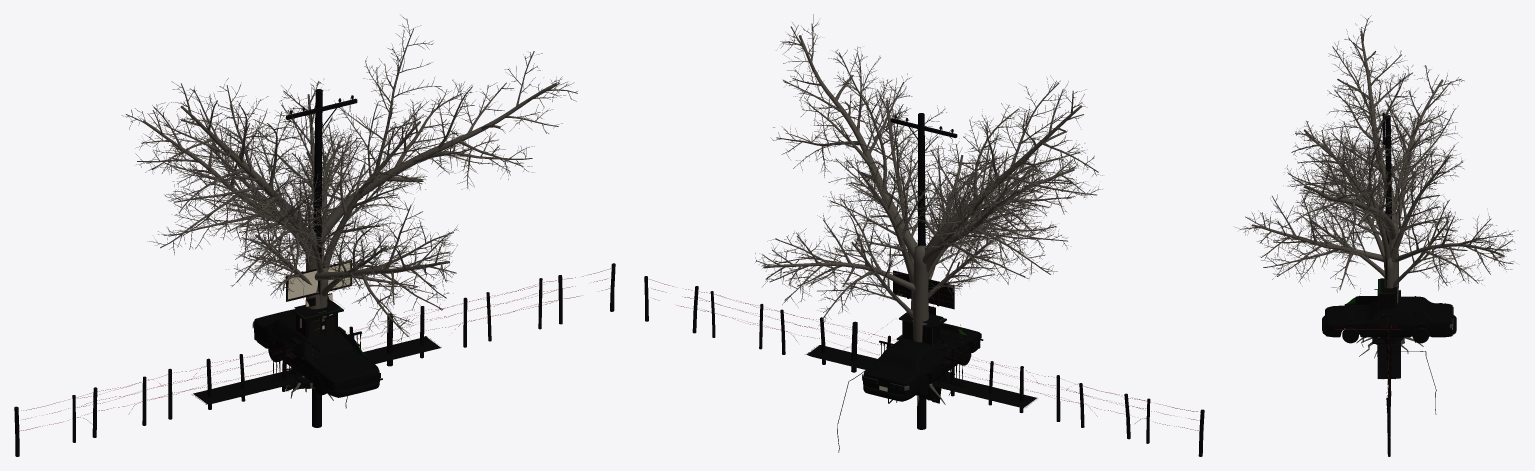
Rendered from props_m1.glb.
3 views of the same model, side by side, from view 1: azimuth 30°, elevation 25°; view 2: azimuth 150°, elevation 25°; view 3: azimuth 270°, elevation 25° (orthographic). The views are drawn at different scales.
Parts seen in each view (by area): view 1: P_TREE_2-dead_tree, P_TREE_1-dead_tree, P_CAR_GATE-sedan-body, P_RUNNER_U1-runner_rug, P_UTILITY_POLE-utility_pole, P_FENCE_W-fence_run, P_FENCE_E-fence_run, P_CAR_GATE-sedan, P_SIGN-sign_post-face, P_ARMOIRE-slatted_cabinet; view 2: P_TREE_2-dead_tree, P_TREE_1-dead_tree, P_CAR_GATE-sedan-body, P_RUNNER_U1-runner_rug, P_UTILITY_POLE-utility_pole, P_FENCE_W-fence_run, P_FENCE_E-fence_run, P_SIGN-sign_post, P_ARMOIRE-slatted_cabinet, P_CAR_GATE-sedan; view 3: P_TREE_2-dead_tree, P_TREE_1-dead_tree, P_CAR_GATE-sedan-body, P_CAR_GATE-sedan, P_UTILITY_POLE-utility_pole, P_RUNNER_U1-runner_rug, P_ARMOIRE-slatted_cabinet, P_CAR_INTERIOR-sedan_interior.
Part boxes in pixels (left/top/right/bottom): P_TREE_2-dead_tree: left=122, top=14, right=577, bottom=400; P_TREE_1-dead_tree: left=185, top=78, right=439, bottom=391; P_CAR_GATE-sedan-body: left=254, top=309, right=379, bottom=397; P_RUNNER_U1-runner_rug: left=191, top=336, right=441, bottom=404; P_UTILITY_POLE-utility_pole: left=286, top=89, right=357, bottom=427; P_FENCE_W-fence_run: left=14, top=263, right=615, bottom=456; P_FENCE_E-fence_run: left=72, top=275, right=562, bottom=442; P_CAR_GATE-sedan: left=254, top=319, right=379, bottom=396; P_SIGN-sign_post-face: left=288, top=263, right=350, bottom=299; P_ARMOIRE-slatted_cabinet: left=292, top=301, right=343, bottom=338; P_TREE_2-dead_tree: left=755, top=14, right=1102, bottom=404; P_TREE_1-dead_tree: left=823, top=84, right=1045, bottom=402; P_CAR_GATE-sedan-body: left=863, top=323, right=980, bottom=401; P_RUNNER_U1-runner_rug: left=805, top=345, right=1037, bottom=408; P_UTILITY_POLE-utility_pole: left=890, top=113, right=957, bottom=429; P_FENCE_W-fence_run: left=644, top=276, right=1204, bottom=456; P_FENCE_E-fence_run: left=692, top=286, right=1150, bottom=443; P_SIGN-sign_post: left=893, top=270, right=954, bottom=309; P_ARMOIRE-slatted_cabinet: left=899, top=312, right=946, bottom=383; P_CAR_GATE-sedan: left=863, top=324, right=980, bottom=399; P_TREE_2-dead_tree: left=1235, top=15, right=1517, bottom=356; P_TREE_1-dead_tree: left=1301, top=111, right=1464, bottom=358; P_CAR_GATE-sedan-body: left=1325, top=296, right=1452, bottom=337; P_CAR_GATE-sedan: left=1322, top=288, right=1456, bottom=343; P_UTILITY_POLE-utility_pole: left=1381, top=113, right=1391, bottom=243; P_RUNNER_U1-runner_rug: left=1377, top=290, right=1400, bottom=379; P_ARMOIRE-slatted_cabinet: left=1378, top=278, right=1397, bottom=340; P_CAR_INTERIOR-sedan_interior: left=1344, top=296, right=1395, bottom=334.
Size of what is drawn, in the model's own units: 20.6 by 13.42 by 10.95.
